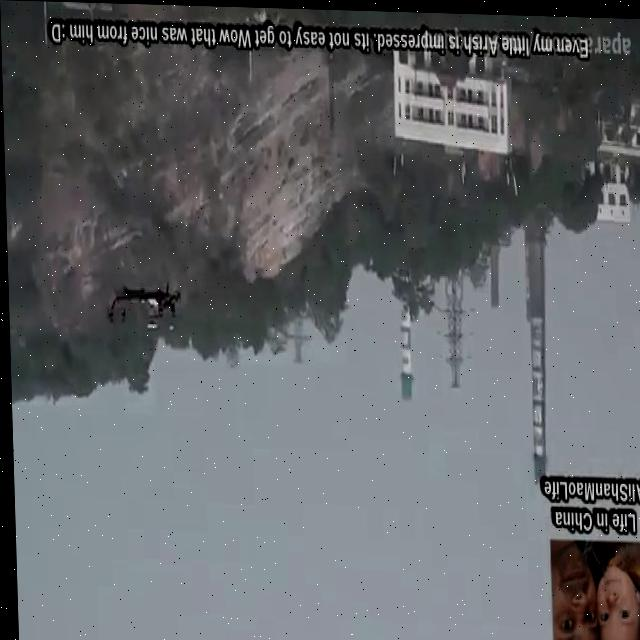drone: (102, 279, 184, 333)
